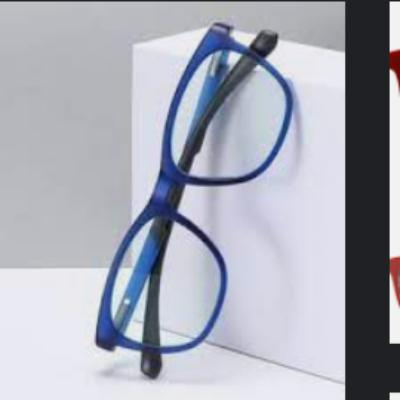glasses: (94, 19, 298, 380)
